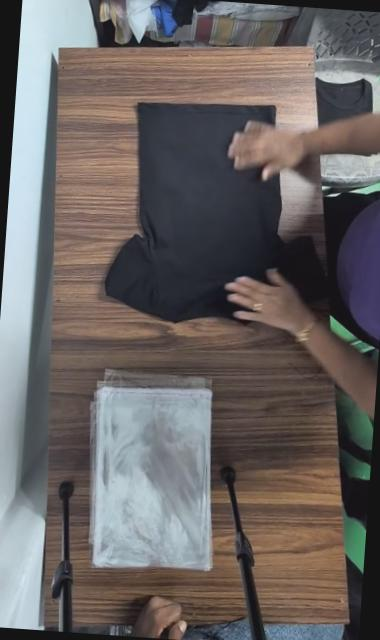new-garment: (106, 104, 281, 322)
